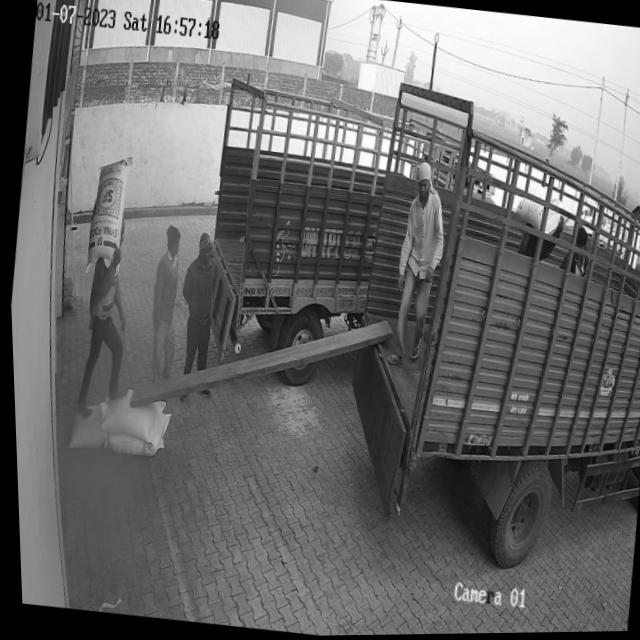sack: (78, 152, 129, 274), (93, 385, 164, 445), (99, 406, 168, 457), (63, 400, 107, 453)
